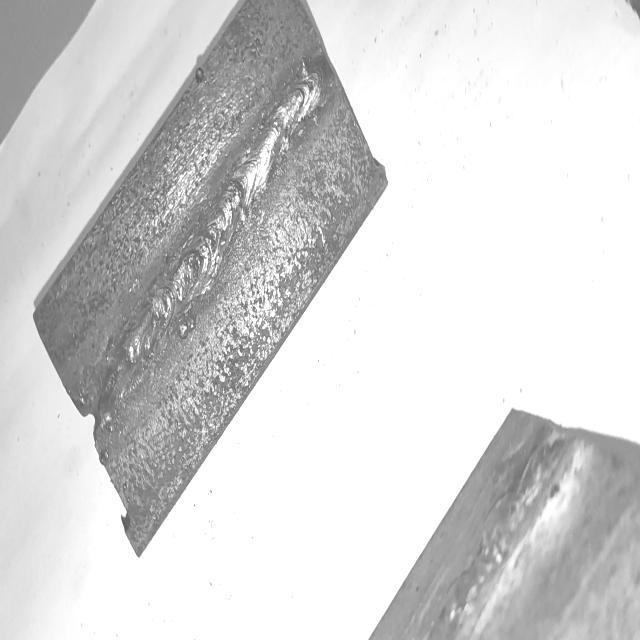Defect: (74, 308, 190, 448)
Welding Line: (83, 61, 328, 438)
Workpiece: (32, 0, 375, 551)
